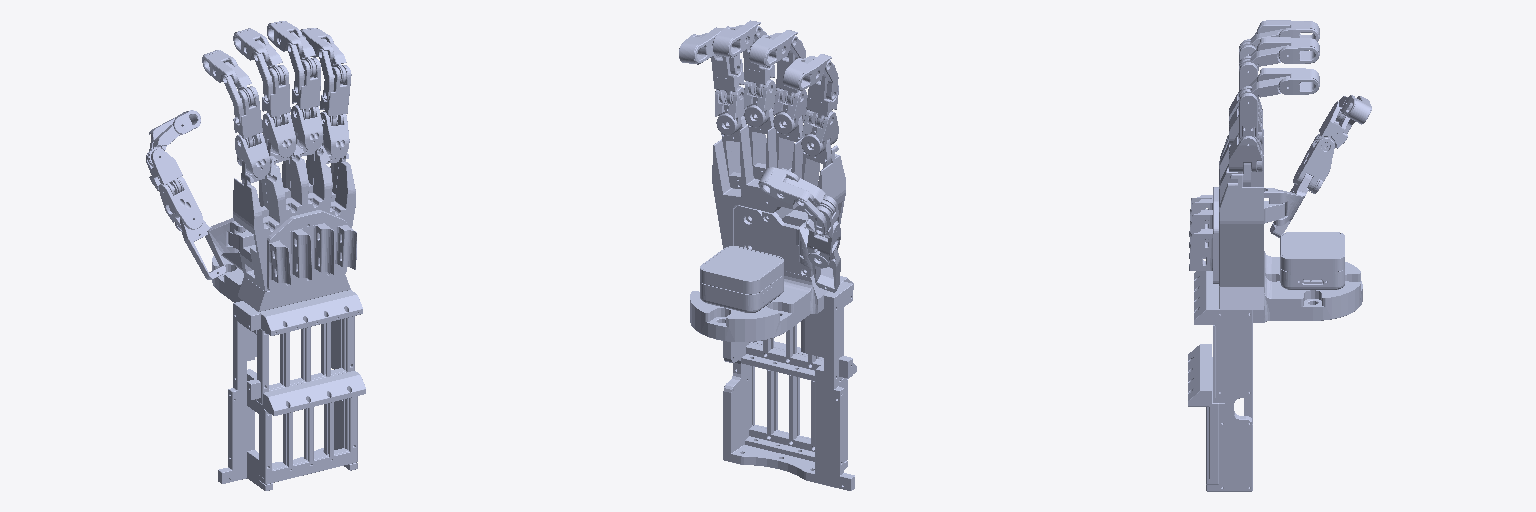
--- What the picture shows (computed from the rendered views, not written in the file) ---
The picture shows the robot from 3 angles, left to right: view 1: azimuth 30°, elevation 25°; view 2: azimuth 150°, elevation 25°; view 3: azimuth 270°, elevation 25°; orthographic projection.
Robot: bidexhand_right — 32 links, 31 joints (26 revolute, 5 fixed); root link hand_base_link; default pose: all joints at 0.
Visible links, largest first — view 1: hand_base_link, tcf_link, tca_link, tma_link, ima_link, mma_link, pmf_link, mmf_link, rmf_link, imf_link, rma_link, pma_link (+5 smaller); view 2: hand_base_link, ima_link, tdf_link, mma_link, rma_link, pmf_link, pma_link, tcf_link, imf_link, tca_link, rmf_link, mdf_link (+5 smaller); view 3: hand_base_link, tca_link, tcf_link, pdf_link, rdf_link, pma_link, pmf_link, mdf_link, tma_link, ppf_link.
Boxes of the visible links, <box> form: hand_base_link: <box>212,132,365,490</box>; tcf_link: <box>180,218,246,279</box>; tca_link: <box>159,176,202,231</box>; tma_link: <box>146,149,182,195</box>; ima_link: <box>235,133,270,177</box>; mma_link: <box>262,113,295,157</box>; pmf_link: <box>320,65,351,125</box>; mmf_link: <box>262,65,290,126</box>; rmf_link: <box>292,58,320,119</box>; imf_link: <box>233,86,262,147</box>; rma_link: <box>291,105,323,150</box>; pma_link: <box>320,112,349,158</box>; hand_base_link: <box>690,108,856,490</box>; ima_link: <box>801,110,838,155</box>; tdf_link: <box>759,167,813,204</box>; mma_link: <box>773,88,807,134</box>; rma_link: <box>744,80,776,127</box>; pmf_link: <box>711,55,744,104</box>; pma_link: <box>715,87,747,135</box>; tcf_link: <box>799,221,840,292</box>; imf_link: <box>806,64,838,127</box>; tca_link: <box>807,222,840,267</box>; rmf_link: <box>743,31,774,96</box>; mdf_link: <box>749,30,797,66</box>; hand_base_link: <box>1188,129,1362,491</box>; tca_link: <box>1293,134,1334,193</box>; tcf_link: <box>1264,173,1312,237</box>; pdf_link: <box>1257,68,1318,94</box>; rdf_link: <box>1257,37,1318,63</box>; pma_link: <box>1229,133,1262,171</box>; pmf_link: <box>1239,86,1258,142</box>; mdf_link: <box>1257,21,1318,41</box>; tma_link: <box>1315,101,1349,148</box>; ppf_link: <box>1239,76,1289,101</box>.
Bounding box of the posed robot: 0.1224 × 0.1192 × 0.3109 m (x, y, z).
32 mesh visuals loaded from 32 distinct referenced files (32 binary STL).

URDF robot description (bidexhand_right):
<?xml version="1.0" encoding="utf-8"?>
<!-- This URDF was automatically created by SolidWorks to URDF Exporter! Originally created by Stephen Brawner ([email redacted]) 
     Commit Version: 1.6.0-4-g7f85cfe  Build Version: 1.6.7995.38578
     For more information, please see http://wiki.ros.org/sw_urdf_exporter -->
<robot
  name="bidexhand_right">
  <link
    name="hand_base_link">
    <inertial>
      <origin
        xyz="-0.000725570415579053 -0.0104080064888702 0.0230876216279809"
        rpy="0 0 0" />
      <mass
        value="1.41105557691145" />
      <inertia
        ixx="0.000455162197300959"
        ixy="2.626489229978E-06"
        ixz="-3.6142366380137E-07"
        iyy="0.000539737696661667"
        iyz="1.05084366743528E-05"
        izz="0.000515614930153515" />
    </inertial>
    <visual>
      <origin
        xyz="0 0 0"
        rpy="0 0 0" />
      <geometry>
        <mesh
          filename="meshes/hand_base_link.STL" />
      </geometry>
      <material
        name="">
        <color
          rgba="0.792156862745098 0.819607843137255 0.933333333333333 1" />
      </material>
    </visual>
    <collision>
      <origin
        xyz="0 0 0"
        rpy="0 0 0" />
      <geometry>
        <mesh
          filename="meshes/hand_base_link.STL" />
      </geometry>
    </collision>
  </link>
  <link
    name="tcf_link">
    <inertial>
      <origin
        xyz="-0.0127681015251988 0.0064872186643618 0.000330864552872193"
        rpy="0 0 0" />
      <mass
        value="0.00505286263408417" />
      <inertia
        ixx="7.74949451966582E-07"
        ixy="2.33415056144498E-07"
        ixz="-1.43064393975911E-08"
        iyy="9.82823814891269E-07"
        iyz="-1.39546008320957E-07"
        izz="7.18911869528439E-07" />
    </inertial>
    <visual>
      <origin
        xyz="0 0 0"
        rpy="0 0 0" />
      <geometry>
        <mesh
          filename="meshes/tcf_link.STL" />
      </geometry>
      <material
        name="">
        <color
          rgba="0.792156862745098 0.819607843137255 0.933333333333333 1" />
      </material>
    </visual>
    <collision>
      <origin
        xyz="0 0 0"
        rpy="0 0 0" />
      <geometry>
        <mesh
          filename="meshes/tcf_link.STL" />
      </geometry>
    </collision>
  </link>
  <joint
    name="tcf_joint"
    type="revolute">
    <origin
      xyz="-0.03305 -0.02155 0.0495"
      rpy="0 0 0" />
    <parent
      link="hand_base_link" />
    <child
      link="tcf_link" />
    <axis
      xyz="0 0 1" />
    <limit
      lower="-1.57"
      upper="0.175"
      effort="0"
      velocity="0" />
  </joint>
  <link
    name="tca_link">
    <inertial>
      <origin
        xyz="0.0105237383263635 -0.000433201383295542 0.00254229836481148"
        rpy="0 0 0" />
      <mass
        value="0.00511850580963509" />
      <inertia
        ixx="2.23475059437511E-07"
        ixy="1.16596456374853E-08"
        ixz="3.30209390042801E-08"
        iyy="5.03548923540364E-07"
        iyz="-4.51746379791552E-10"
        izz="5.05523383307742E-07" />
    </inertial>
    <visual>
      <origin
        xyz="0 0 0"
        rpy="0 0 0" />
      <geometry>
        <mesh
          filename="meshes/tca_link.STL" />
      </geometry>
      <material
        name="">
        <color
          rgba="0.792156862745098 0.819607843137255 0.933333333333333 1" />
      </material>
    </visual>
    <collision>
      <origin
        xyz="0 0 0"
        rpy="0 0 0" />
      <geometry>
        <mesh
          filename="meshes/tca_link.STL" />
      </geometry>
    </collision>
  </link>
  <joint
    name="tca_joint"
    type="revolute">
    <origin
      xyz="-0.024 0.016626 0.011678"
      rpy="2.7701 -1.0044 2.0034" />
    <parent
      link="tcf_link" />
    <child
      link="tca_link" />
    <axis
      xyz="0 0 1" />
    <limit
      lower="-0.5"
      upper="1"
      effort="0"
      velocity="0" />
  </joint>
  <link
    name="tma_link">
    <inertial>
      <origin
        xyz="0.0115738759402629 -0.000303204414334148 -0.00174482181200082"
        rpy="0 0 0" />
      <mass
        value="0.00329743064165085" />
      <inertia
        ixx="1.10772393377562E-07"
        ixy="-1.35185673144797E-08"
        ixz="2.0558126913616E-08"
        iyy="2.26893925575228E-07"
        iyz="2.38451875838206E-09"
        izz="2.27931133532015E-07" />
    </inertial>
    <visual>
      <origin
        xyz="0 0 0"
        rpy="0 0 0" />
      <geometry>
        <mesh
          filename="meshes/tma_link.STL" />
      </geometry>
      <material
        name="">
        <color
          rgba="0.792156862745098 0.819607843137255 0.933333333333333 1" />
      </material>
    </visual>
    <collision>
      <origin
        xyz="0 0 0"
        rpy="0 0 0" />
      <geometry>
        <mesh
          filename="meshes/tma_link.STL" />
      </geometry>
    </collision>
  </link>
  <joint
    name="tma_joint"
    type="revolute">
    <origin
      xyz="0.025 0.000975 0.000475"
      rpy="-1.5708 0 0" />
    <parent
      link="tca_link" />
    <child
      link="tma_link" />
    <axis
      xyz="0 0 1" />
    <limit
      lower="-1.2"
      upper="0.7"
      effort="0"
      velocity="0" />
  </joint>
  <link
    name="tmf_link">
    <inertial>
      <origin
        xyz="0.0119380012691961 -0.00180717018424088 -0.00119615806984238"
        rpy="0 0 0" />
      <mass
        value="0.00178293997137009" />
      <inertia
        ixx="2.51966326250509E-08"
        ixy="5.48915339331319E-09"
        ixz="3.99987210474622E-09"
        iyy="1.66014989692965E-07"
        iyz="-2.31073084727786E-09"
        izz="1.74641415165244E-07" />
    </inertial>
    <visual>
      <origin
        xyz="0 0 0"
        rpy="0 0 0" />
      <geometry>
        <mesh
          filename="meshes/tmf_link.STL" />
      </geometry>
      <material
        name="">
        <color
          rgba="0.792156862745098 0.819607843137255 0.933333333333333 1" />
      </material>
    </visual>
    <collision>
      <origin
        xyz="0 0 0"
        rpy="0 0 0" />
      <geometry>
        <mesh
          filename="meshes/tmf_link.STL" />
      </geometry>
    </collision>
  </link>
  <joint
    name="tmf_joint"
    type="revolute">
    <origin
      xyz="0.023 -0.000125 -0.003475"
      rpy="1.5708 -1.1468 0" />
    <parent
      link="tma_link" />
    <child
      link="tmf_link" />
    <axis
      xyz="0 0 1" />
    <limit
      lower="-0.650"
      upper="1.57"
      effort="0"
      velocity="0" />
  </joint>
  <link
    name="tdf_link">
    <inertial>
      <origin
        xyz="0.000802743353210698 -0.000155618657950204 0.00275199039461954"
        rpy="0 0 0" />
      <mass
        value="0.00311228154218926" />
      <inertia
        ixx="9.5031931097537E-08"
        ixy="-4.88641379551435E-09"
        ixz="3.0819878933757E-08"
        iyy="2.81266474393367E-07"
        iyz="1.40942172702238E-09"
        izz="2.65916647798908E-07" />
    </inertial>
    <visual>
      <origin
        xyz="0 0 0"
        rpy="0 0 0" />
      <geometry>
        <mesh
          filename="meshes/tdf_link.STL" />
      </geometry>
      <material
        name="">
        <color
          rgba="0.792156862745098 0.819607843137255 0.933333333333333 1" />
      </material>
    </visual>
    <collision>
      <origin
        xyz="0 0 0"
        rpy="0 0 0" />
      <geometry>
        <mesh
          filename="meshes/tdf_link.STL" />
      </geometry>
    </collision>
  </link>
  <joint
    name="tdf_joint"
    type="revolute">
    <origin
      xyz="0.028 0 0"
      rpy="0 0 0.42403" />
    <parent
      link="tmf_link" />
    <child
      link="tdf_link" />
    <axis
      xyz="0 0 1" />
    <limit
      lower="-0.175"
      upper="1.25"
      effort="0"
      velocity="0" />
  </joint>
  <link
    name="t_tip_link">
    <inertial>
      <origin
        xyz="0.00180286824371704 3.90345999690123E-08 -6.31439345255558E-16"
        rpy="0 0 0" />
      <mass
        value="0.000106342041717247" />
      <inertia
        ixx="3.12011621092777E-09"
        ixy="-4.10100638067306E-23"
        ixz="2.83309359799412E-23"
        iyy="1.43949745118296E-09"
        iyz="8.78879400837592E-25"
        izz="2.45648006728725E-09" />
    </inertial>
    <visual>
      <origin
        xyz="0 0 0"
        rpy="0 0 0" />
      <geometry>
        <mesh
          filename="meshes/t_tip_link.STL" />
      </geometry>
      <material
        name="">
        <color
          rgba="0.792156862745098 0.819607843137255 0.933333333333333 1" />
      </material>
    </visual>
    <collision>
      <origin
        xyz="0 0 0"
        rpy="0 0 0" />
      <geometry>
        <mesh
          filename="meshes/t_tip_link.STL" />
      </geometry>
    </collision>
  </link>
  <joint
    name="t_tip_joint"
    type="fixed">
    <origin
      xyz="0.0122 0 0.001625"
      rpy="0 0 0" />
    <parent
      link="tdf_link" />
    <child
      link="t_tip_link" />
    <axis
      xyz="0 0 0" />
  </joint>
  <link
    name="tds_link">
    <inertial>
      <origin
        xyz="0.0135308220531408 0.00375751103141848 0.000893631122538648"
        rpy="0 0 0" />
      <mass
        value="0.000835750928421176" />
      <inertia
        ixx="1.95505872026181E-08"
        ixy="-2.59298002504612E-08"
        ixz="-4.35960139045451E-11"
        iyy="5.99911849192119E-08"
        iyz="2.33598761013498E-11"
        izz="7.75399409092295E-08" />
    </inertial>
    <visual>
      <origin
        xyz="0 0 0"
        rpy="0 0 0" />
      <geometry>
        <mesh
          filename="meshes/tds_link.STL" />
      </geometry>
      <material
        name="">
        <color
          rgba="0.792156862745098 0.819607843137255 0.933333333333333 1" />
      </material>
    </visual>
    <collision>
      <origin
        xyz="0 0 0"
        rpy="0 0 0" />
      <geometry>
        <mesh
          filename="meshes/tds_link.STL" />
      </geometry>
    </collision>
  </link>
  <joint
    name="tds_joint"
    type="revolute">
    <origin
      xyz="0.009 -0.006425 -0.003475"
      rpy="1.5708 0.0019569 0" />
    <parent
      link="tma_link" />
    <child
      link="tds_link" />
    <axis
      xyz="0 0 1" />
    <limit
      lower="-0.175"
      upper="1.25"
      effort="0"
      velocity="0" />
    <mimic
      joint="tdf_joint"
      multiplier="1"
      offset="0" />
  </joint>
  <link
    name="ima_link">
    <inertial>
      <origin
        xyz="0.00503464484796538 5.98272297764428E-05 -0.00177249288426803"
        rpy="0 0 0" />
      <mass
        value="0.00449002294753804" />
      <inertia
        ixx="2.70035083771622E-07"
        ixy="-3.22514169590942E-09"
        ixz="-1.86751143035278E-08"
        iyy="3.74895329911385E-07"
        iyz="-5.83790329510472E-10"
        izz="2.94770545418815E-07" />
    </inertial>
    <visual>
      <origin
        xyz="0 0 0"
        rpy="0 0 0" />
      <geometry>
        <mesh
          filename="meshes/ima_link.STL" />
      </geometry>
      <material
        name="">
        <color
          rgba="0.792156862745098 0.819607843137255 0.933333333333333 1" />
      </material>
    </visual>
    <collision>
      <origin
        xyz="0 0 0"
        rpy="0 0 0" />
      <geometry>
        <mesh
          filename="meshes/ima_link.STL" />
      </geometry>
    </collision>
  </link>
  <joint
    name="ima_joint"
    type="revolute">
    <origin
      xyz="-0.030453 -0.042025 0.11347"
      rpy="1.5708 -1.4573 3.1416" />
    <parent
      link="hand_base_link" />
    <child
      link="ima_link" />
    <axis
      xyz="0 0 1" />
    <limit
      lower="-0.436"
      upper="0.436"
      effort="0"
      velocity="0" />
  </joint>
  <link
    name="imf_link">
    <inertial>
      <origin
        xyz="0.0157681146549905 -8.39248010623119E-05 -0.000586678883075314"
        rpy="0 0 0" />
      <mass
        value="0.00428037699515229" />
      <inertia
        ixx="1.21366651676568E-07"
        ixy="1.0308664365756E-09"
        ixz="6.7183202137617E-08"
        iyy="4.86740574958393E-07"
        iyz="8.12445969572476E-10"
        izz="4.74517493222643E-07" />
    </inertial>
    <visual>
      <origin
        xyz="0 0 0"
        rpy="0 0 0" />
      <geometry>
        <mesh
          filename="meshes/imf_link.STL" />
      </geometry>
      <material
        name="">
        <color
          rgba="0.792156862745098 0.819607843137255 0.933333333333333 1" />
      </material>
    </visual>
    <collision>
      <origin
        xyz="0 0 0"
        rpy="0 0 0" />
      <geometry>
        <mesh
          filename="meshes/imf_link.STL" />
      </geometry>
    </collision>
  </link>
  <joint
    name="imf_joint"
    type="revolute">
    <origin
      xyz="0.017 0 0.0004"
      rpy="1.5708 0 0" />
    <parent
      link="ima_link" />
    <child
      link="imf_link" />
    <axis
      xyz="0 0 1" />
    <limit
      lower="-1.57"
      upper="1.57"
      effort="0"
      velocity="0" />
  </joint>
  <link
    name="ipf_link">
    <inertial>
      <origin
        xyz="0.0119380016101945 -0.00180717011704587 -0.0028211578621919"
        rpy="0 0 0" />
      <mass
        value="0.0017829399503603" />
      <inertia
        ixx="2.51966332601502E-08"
        ixy="5.4891548621447E-09"
        ixz="3.99987505141804E-09"
        iyy="1.66014992506729E-07"
        iyz="-2.31073166529935E-09"
        izz="1.74641417094822E-07" />
    </inertial>
    <visual>
      <origin
        xyz="0 0 0"
        rpy="0 0 0" />
      <geometry>
        <mesh
          filename="meshes/ipf_link.STL" />
      </geometry>
      <material
        name="">
        <color
          rgba="0.792156862745098 0.819607843137255 0.933333333333333 1" />
      </material>
    </visual>
    <collision>
      <origin
        xyz="0 0 0"
        rpy="0 0 0" />
      <geometry>
        <mesh
          filename="meshes/ipf_link.STL" />
      </geometry>
    </collision>
  </link>
  <joint
    name="ipf_joint"
    type="revolute">
    <origin
      xyz="0.032 0 0"
      rpy="0 0 1.1468" />
    <parent
      link="imf_link" />
    <child
      link="ipf_link" />
    <axis
      xyz="0 0 1" />
    <limit
      lower="-0.650"
      upper="1.57"
      effort="0"
      velocity="0" />
  </joint>
  <link
    name="idf_link">
    <inertial>
      <origin
        xyz="0.002387742591975 -0.000189373670521353 0.000969315817086848"
        rpy="0 0 0" />
      <mass
        value="0.00334446738731233" />
      <inertia
        ixx="1.04470305363248E-07"
        ixy="-7.09404190551584E-09"
        ixz="3.35383399715759E-08"
        iyy="3.59205966468766E-07"
        iyz="2.19369341433661E-09"
        izz="3.45591860900624E-07" />
    </inertial>
    <visual>
      <origin
        xyz="0 0 0"
        rpy="0 0 0" />
      <geometry>
        <mesh
          filename="meshes/idf_link.STL" />
      </geometry>
      <material
        name="">
        <color
          rgba="0.792156862745098 0.819607843137255 0.933333333333333 1" />
      </material>
    </visual>
    <collision>
      <origin
        xyz="0 0 0"
        rpy="0 0 0" />
      <geometry>
        <mesh
          filename="meshes/idf_link.STL" />
      </geometry>
    </collision>
  </link>
  <joint
    name="idf_joint"
    type="revolute">
    <origin
      xyz="0.028 0 0"
      rpy="0 0 0.42403" />
    <parent
      link="ipf_link" />
    <child
      link="idf_link" />
    <axis
      xyz="0 0 1" />
    <limit
      lower="-0.175"
      upper="1.25"
      effort="0"
      velocity="0" />
  </joint>
  <link
    name="i_tip_link">
    <inertial>
      <origin
        xyz="0.0017968 -1.9457E-08 -1.8041E-16"
        rpy="0 0 0" />
      <mass
        value="0.00010634" />
      <inertia
        ixx="3.1201E-09"
        ixy="-2.4231E-25"
        ixz="1.9164E-25"
        iyy="1.4395E-09"
        iyz="6.4623E-25"
        izz="2.4565E-09" />
    </inertial>
    <visual>
      <origin
        xyz="0 0 0"
        rpy="0 0 0" />
      <geometry>
        <mesh
          filename="meshes/i_tip_link.STL" />
      </geometry>
      <material
        name="">
        <color
          rgba="0.79216 0.81961 0.93333 1" />
      </material>
    </visual>
    <collision>
      <origin
        xyz="0 0 0"
        rpy="0 0 0" />
      <geometry>
        <mesh
          filename="meshes/i_tip_link.STL" />
      </geometry>
    </collision>
  </link>
  <joint
    name="i_tip_joint"
    type="fixed">
    <origin
      xyz="0.016206 0 0"
      rpy="0 0 0" />
    <parent
      link="idf_link" />
    <child
      link="i_tip_link" />
    <axis
      xyz="0 0 0" />
  </joint>
  <link
    name="ids_link">
    <inertial>
      <origin
        xyz="0.013532 0.0036871 0.0010097"
        rpy="0 0 0" />
      <mass
        value="0.00089722" />
      <inertia
        ixx="2.0441E-08"
        ixy="-2.6845E-08"
        ixz="-4.589E-11"
        iyy="6.1828E-08"
        iyz="1.2288E-10"
        izz="7.9928E-08" />
    </inertial>
    <visual>
      <origin
        xyz="0 0 0"
        rpy="0 0 0" />
      <geometry>
        <mesh
          filename="meshes/ids_link.STL" />
      </geometry>
      <material
        name="">
        <color
          rgba="0.79216 0.81961 0.93333 1" />
      </material>
    </visual>
    <collision>
      <origin
        xyz="0 0 0"
        rpy="0 0 0" />
      <geometry>
        <mesh
          filename="meshes/ids_link.STL" />
      </geometry>
    </collision>
  </link>
  <joint
    name="ids_joint"
    type="revolute">
    <origin
      xyz="0.018 0 0.004675"
      rpy="0 0 -0.0019569" />
    <parent
      link="imf_link" />
    <child
      link="ids_link" />
    <axis
      xyz="0 0 1" />
    <limit
      lower="-0.175"
      upper="1.25"
      effort="0"
      velocity="0" />
    <mimic
      joint="idf_joint"
      multiplier="1"
      offset="0" />
  </joint>
  <link
    name="mma_link">
    <inertial>
      <origin
        xyz="0.00503463550199068 5.98300126588075E-05 -0.00177249465586118"
        rpy="0 0 0" />
      <mass
        value="0.00449001647184619" />
      <inertia
        ixx="2.70035009497661E-07"
        ixy="-3.22529318822978E-09"
        ixz="-1.86751011926075E-08"
        iyy="3.74895085261769E-07"
        iyz="-5.83816161969542E-10"
        izz="2.94770129553718E-07" />
    </inertial>
    <visual>
      <origin
        xyz="0 0 0"
        rpy="0 0 0" />
      <geometry>
        <mesh
          filename="meshes/mma_link.STL" />
      </geometry>
      <material
        name="">
        <color
          rgba="0.792156862745098 0.819607843137255 0.933333333333333 1" />
      </material>
    </visual>
    <collision>
      <origin
        xyz="0 0 0"
        rpy="0 0 0" />
      <geometry>
        <mesh
          filename="meshes/mma_link.STL" />
      </geometry>
    </collision>
  </link>
  <joint
    name="mma_joint"
    type="revolute">
    <origin
      xyz="-0.010408 -0.042025 0.12371"
      rpy="1.5708 -1.5272 -3.1416" />
    <parent
      link="hand_base_link" />
    <child
      link="mma_link" />
    <axis
      xyz="0 0 1" />
    <limit
      lower="-0.436"
      upper="0.436"
      effort="0"
      velocity="0" />
  </joint>
  <link
    name="mmf_link">
    <inertial>
      <origin
        xyz="0.0157681146598199 -8.39247976679369E-05 -0.000586678874241761"
        rpy="0 0 0" />
      <mass
        value="0.00428037699020959" />
      <inertia
        ixx="1.21366651787299E-07"
        ixy="1.03086680169974E-09"
        ixz="6.7183202286979E-08"
        iyy="4.86740574996791E-07"
        iyz="8.12445875109257E-10"
        izz="4.74517493130867E-07" />
    </inertial>
    <visual>
      <origin
        xyz="0 0 0"
        rpy="0 0 0" />
      <geometry>
        <mesh
          filename="meshes/mmf_link.STL" />
      </geometry>
      <material
        name="">
        <color
          rgba="0.792156862745098 0.819607843137255 0.933333333333333 1" />
      </material>
    </visual>
    <collision>
      <origin
        xyz="0 0 0"
        rpy="0 0 0" />
      <geometry>
        <mesh
          filename="meshes/mmf_link.STL" />
      </geometry>
    </collision>
  </link>
  <joint
    name="mmf_joint"
    type="revolute">
    <origin
      xyz="0.017 0 0.0004"
      rpy="1.5708 0 0" />
    <parent
      link="mma_link" />
    <child
      link="mmf_link" />
    <axis
      xyz="0 0 1" />
    <limit
      lower="-1.57"
      upper="1.57"
      effort="0"
      velocity="0" />
  </joint>
  <link
    name="mpf_link">
    <inertial>
      <origin
        xyz="0.0119380016426112 -0.00180717004813466 -0.00282115778359655"
        rpy="0 0 0" />
      <mass
        value="0.00178293992081719" />
      <inertia
        ixx="2.51966332474012E-08"
        ixy="5.48915521081741E-09"
        ixz="3.99987569936663E-09"
        iyy="1.66014991637592E-07"
        iyz="-2.31073185096221E-09"
        izz="1.74641416093391E-07" />
    </inertial>
    <visual>
      <origin
        xyz="0 0 0"
        rpy="0 0 0" />
      <geometry>
        <mesh
          filename="meshes/mpf_link.STL" />
      </geometry>
      <material
        name="">
        <color
          rgba="0.792156862745098 0.819607843137255 0.933333333333333 1" />
      </material>
    </visual>
    <collision>
      <origin
        xyz="0 0 0"
        rpy="0 0 0" />
      <geometry>
        <mesh
          filename="meshes/mpf_link.STL" />
      </geometry>
    </collision>
  </link>
  <joint
    name="mpf_joint"
    type="revolute">
    <origin
      xyz="0.032 0 0"
      rpy="0 0 1.1468" />
    <parent
      link="mmf_link" />
    <child
      link="mpf_link" />
    <axis
      xyz="0 0 1" />
    <limit
      lower="-0.650"
      upper="1.57"
      effort="0"
      velocity="0" />
  </joint>
  <link
    name="mdf_link">
    <inertial>
      <origin
        xyz="0.00238774288096186 -0.000189373618760341 0.000969315755758812"
        rpy="0 0 0" />
      <mass
        value="0.00334446743318713" />
      <inertia
        ixx="1.04470296553911E-07"
        ixy="-7.09404334577965E-09"
        ixz="3.3538342054856E-08"
        iyy="3.59205982045654E-07"
        iyz="2.19369312889999E-09"
        izz="3.4559186676261E-07" />
    </inertial>
    <visual>
      <origin
        xyz="0 0 0"
        rpy="0 0 0" />
      <geometry>
        <mesh
          filename="meshes/mdf_link.STL" />
      </geometry>
      <material
        name="">
        <color
          rgba="0.792156862745098 0.819607843137255 0.933333333333333 1" />
      </material>
    </visual>
    <collision>
      <origin
        xyz="0 0 0"
        rpy="0 0 0" />
      <geometry>
        <mesh
          filename="meshes/mdf_link.STL" />
      </geometry>
    </collision>
  </link>
  <joint
    name="mdf_joint"
    type="revolute">
    <origin
      xyz="0.028 0 0"
      rpy="0 0 0.42403" />
    <parent
      link="mpf_link" />
    <child
      link="mdf_link" />
    <axis
      xyz="0 0 1" />
    <limit
      lower="-0.175"
      upper="1.25"
      effort="0"
      velocity="0" />
  </joint>
  <link
    name="m_tip_link">
    <inertial>
      <origin
        xyz="0.0017968 -1.9457E-08 -1.4311E-16"
        rpy="0 0 0" />
      <mass
        value="0.00010634" />
      <inertia
        ixx="3.1201E-09"
        ixy="2.498E-24"
        ixz="1.0893E-24"
        iyy="1.4395E-09"
        iyz="-9.8874E-25"
        izz="2.4565E-09" />
    </inertial>
    <visual>
      <origin
        xyz="0 0 0"
        rpy="0 0 0" />
      <geometry>
        <mesh
          filename="meshes/m_tip_link.STL" />
      </geometry>
      <material
        name="">
        <color
          rgba="0.79216 0.81961 0.93333 1" />
      </material>
    </visual>
    <collision>
      <origin
        xyz="0 0 0"
        rpy="0 0 0" />
      <geometry>
        <mesh
          filename="meshes/m_tip_link.STL" />
      </geometry>
    </collision>
  </link>
  <joint
    name="m_tip_joint"
    type="fixed">
    <origin
      xyz="0.016206 0 0"
      rpy="0 0 0" />
    <parent
      link="mdf_link" />
    <child
      link="m_tip_link" />
    <axis
      xyz="0 0 0" />
  </joint>
  <link
    name="mds_link">
    <inertial>
      <origin
        xyz="0.013532 0.0036871 0.0010097"
        rpy="0 0 0" />
      <mass
        value="0.00089722" />
      <inertia
        ixx="2.0441E-08"
        ixy="-2.6845E-08"
        ixz="-4.589E-11"
        iyy="6.1828E-08"
        iyz="1.2288E-10"
        izz="7.9928E-08" />
    </inertial>
    <visual>
      <origin
        xyz="0 0 0"
        rpy="0 0 0" />
      <geometry>
        <mesh
          filename="meshes/mds_link.STL" />
      </geometry>
      <material
        name="">
        <color
          rgba="0.79216 0.81961 0.93333 1" />
      </material>
    </visual>
    <collision>
      <origin
        xyz="0 0 0"
        rpy="0 0 0" />
      <geometry>
        <mesh
          filename="meshes/mds_link.STL" />
      </geometry>
    </collision>
  </link>
  <joint
    name="mds_joint"
    type="revolute">
    <origin
      xyz="0.018 0 0.004675"
      rpy="0 0 -0.0019569" />
    <parent
      link="mmf_link" />
    <child
      link="mds_link" />
    <axis
      xyz="0 0 1" />
    <limit
      lower="-0.175"
      upper="1.25"
      effort="0"
      velocity="0" />
    <mimic
      joint="mdf_joint"
      multiplier="1"
      offset="0" />
  </joint>
  <link
    name="rma_link">
    <inertial>
      <origin
        xyz="0.00503463723004684 5.98324548934399E-05 -0.00177249119228274"
        rpy="0 0 0" />
      <mass
        value="0.00449002148418832" />
      <inertia
        ixx="2.70035508280761E-07"
        ixy="-3.22527377811435E-09"
        ixz="-1.8675193642765E-08"
        iyy="3.74895474309084E-07"
        iyz="-5.83797528399546E-10"
        izz="2.94770247190702E-07" />
    </inertial>
    <visual>
      <origin
        xyz="0 0 0"
        rpy="0 0 0" />
      <geometry>
        <mesh
          filename="meshes/rma_link.STL" />
      </geometry>
      <material
        name="">
        <color
          rgba="0.792156862745098 0.819607843137255 0.933333333333333 1" />
      </material>
    </visual>
    <collision>
      <origin
        xyz="0 0 0"
        rpy="0 0 0" />
      <geometry>
        <mesh
          filename="meshes/rma_link.STL" />
      </geometry>
    </collision>
  </link>
  <joint
    name="rma_joint"
    type="revolute">
    <origin
      xyz="0.010408 -0.042025 0.12371"
      rpy="-1.5708 -1.5272 0" />
    <parent
      link="hand_base_link" />
    <child
      link="rma_link" />
    <axis
      xyz="0 0 1" />
    <limit
      lower="-0.436"
      upper="0.436"
      effort="0"
      velocity="0" />
  </joint>
  <link
    name="rmf_link">
    <inertial>
      <origin
        xyz="0.0157681146584297 -8.39248019694388E-05 -0.000586678884884897"
        rpy="0 0 0" />
      <mass
        value="0.00428037699145368" />
      <inertia
        ixx="1.21366651625815E-07"
        ixy="1.03086646177773E-09"
        ixz="6.71832020834986E-08"
        iyy="4.86740574840899E-07"
        iyz="8.12445935588288E-10"
        izz="4.74517493117422E-07" />
    </inertial>
    <visual>
      <origin
        xyz="0 0 0"
        rpy="0 0 0" />
      <geometry>
        <mesh
          filename="meshes/rmf_link.STL" />
      </geometry>
      <material
        name="">
        <color
          rgba="0.792156862745098 0.819607843137255 0.933333333333333 1" />
      </material>
    </visual>
    <collision>
      <origin
        xyz="0 0 0"
        rpy="0 0 0" />
      <geometry>
        <mesh
          filename="meshes/rmf_link.STL" />
      </geometry>
    </collision>
  </link>
  <joint
    name="rmf_joint"
    type="revolute">
    <origin
      xyz="0.017 0 0.0004"
      rpy="1.5708 0 0" />
    <parent
      link="rma_link" />
    <child
      link="rmf_link" />
    <axis
      xyz="0 0 1" />
    <limit
      lower="-1.57"
      upper="1.57"
      effort="0"
      velocity="0" />
  </joint>
  <link
    name="rpf_link">
    <inertial>
      <origin
        xyz="0.0119380016710509 -0.00180716998383848 -0.00282115774729011"
        rpy="0 0 0" />
      <mass
        value="0.00178293986878615" />
      <inertia
        ixx="2.51966329639877E-08"
        ixy="5.48915536526696E-09"
        ixz="3.99987582717931E-09"
        iyy="1.66014990262722E-07"
        iyz="-2.31073182633143E-09"
        izz="1.74641414570864E-07" />
    </inertial>
    <visual>
      <origin
        xyz="0 0 0"
        rpy="0 0 0" />
      <geometry>
        <mesh
          filename="meshes/rpf_link.STL" />
      </geometry>
      <material
        name="">
        <color
          rgba="0.792156862745098 0.819607843137255 0.933333333333333 1" />
      </material>
    </visual>
    <collision>
      <origin
        xyz="0 0 0"
        rpy="0 0 0" />
      <geometry>
        <mesh
          filename="meshes/rpf_link.STL" />
      </geometry>
    </collision>
  </link>
  <joint
    name="rpf_joint"
    type="revolute">
    <origin
      xyz="0.032 0 0"
      rpy="0 0 1.1468" />
    <parent
      link="rmf_link" />
    <child
      link="rpf_link" />
    <axis
      xyz="0 0 1" />
    <limit
      lower="-0.650"
      upper="1.57"
      effort="0"
      velocity="0" />
  </joint>
  <link
    name="rdf_link">
    <inertial>
      <origin
        xyz="0.002387742877819 -0.000189373628881107 0.000969315754923459"
        rpy="0 0 0" />
      <mass
        value="0.0033444674327742" />
      <inertia
        ixx="1.04470296607067E-07"
        ixy="-7.09404294848806E-09"
        ixz="3.35383420917998E-08"
        iyy="3.59205981920664E-07"
        iyz="2.19369309392024E-09"
        izz="3.45591866700717E-07" />
    </inertial>
    <visual>
      <origin
        xyz="0 0 0"
        rpy="0 0 0" />
      <geometry>
        <mesh
          filename="meshes/rdf_link.STL" />
      </geometry>
      <material
        name="">
        <color
          rgba="0.792156862745098 0.819607843137255 0.933333333333333 1" />
      </material>
    </visual>
    <collision>
      <origin
        xyz="0 0 0"
        rpy="0 0 0" />
      <geometry>
        <mesh
          filename="meshes/rdf_link.STL" />
      </geometry>
    </collision>
  </link>
  <joint
    name="rdf_joint"
    type="revolute">
    <origin
      xyz="0.028 0 0"
      rpy="0 0 0.42403" />
    <parent
      link="rpf_link" />
    <child
      link="rdf_link" />
    <axis
      xyz="0 0 1" />
    <limit
      lower="-0.175"
      upper="1.25"
      effort="0"
      velocity="0" />
  </joint>
  <link
    name="r_tip_link">
    <inertial>
      <origin
        xyz="0.0017968 -1.9457E-08 -1.3878E-16"
        rpy="0 0 0" />
      <mass
        value="0.00010634" />
      <inertia
        ixx="3.1201E-09"
        ixy="-2.0444E-24"
        ixz="8.3247E-26"
        iyy="1.4395E-09"
        iyz="-3.2312E-25"
        izz="2.4565E-09" />
    </inertial>
    <visual>
      <origin
        xyz="0 0 0"
        rpy="0 0 0" />
      <geometry>
        <mesh
          filename="meshes/r_tip_link.STL" />
      </geometry>
      <material
        name="">
        <color
          rgba="0.79216 0.81961 0.93333 1" />
      </material>
    </visual>
    <collision>
      <origin
        xyz="0 0 0"
        rpy="0 0 0" />
      <geometry>
        <mesh
          filename="meshes/r_tip_link.STL" />
      </geometry>
    </collision>
  </link>
  <joint
    name="r_tip_joint"
    type="fixed">
    <origin
      xyz="0.016206 0 0"
      rpy="0 0 0" />
    <parent
      link="rdf_link" />
    <child
      link="r_tip_link" />
    <axis
      xyz="0 0 0" />
  </joint>
  <link
    name="rds_link">
    <inertial>
      <origin
        xyz="0.013539 0.0036606 0.0010097"
        rpy="0 0 0" />
      <mass
        value="0.00089722" />
      <inertia
        ixx="2.0336E-08"
        ixy="-2.6764E-08"
        ixz="-4.5649E-11"
        iyy="6.1933E-08"
        iyz="1.2297E-10"
        izz="7.9928E-08" />
    </inertial>
    <visual>
      <origin
        xyz="0 0 0"
        rpy="0 0 0" />
      <geometry>
        <mesh
          filename="meshes/rds_link.STL" />
      </geometry>
      <material
        name="">
        <color
          rgba="0.79216 0.81961 0.93333 1" />
      </material>
    </visual>
    <collision>
      <origin
        xyz="0 0 0"
        rpy="0 0 0" />
      <geometry>
        <mesh
          filename="meshes/rds_link.STL" />
      </geometry>
    </collision>
  </link>
  <joint
    name="rds_joint"
    type="revolute">
    <origin
      xyz="0.018 0 0.004675"
      rpy="0 0 0" />
    <parent
      link="rmf_link" />
    <child
      link="rds_link" />
    <axis
      xyz="0 0 1" />
    <limit
      lower="-0.175"
      upper="1.25"
      effort="0"
      velocity="0" />
    <mimic
      joint="rdf_joint"
      multiplier="1"
      offset="0" />
  </joint>
  <link
    name="pma_link">
    <inertial>
      <origin
        xyz="0.00503464691008852 5.9824568991361E-05 -0.00177249124377273"
        rpy="0 0 0" />
      <mass
        value="0.0044900248403291" />
      <inertia
        ixx="2.70035423298214E-07"
        ixy="-3.22513141444438E-09"
        ixz="-1.86752138806951E-08"
        iyy="3.7489566186272E-07"
        iyz="-5.83681858877019E-10"
        izz="2.9477058028695E-07" />
    </inertial>
    <visual>
      <origin
        xyz="0 0 0"
        rpy="0 0 0" />
      <geometry>
        <mesh
          filename="meshes/pma_link.STL" />
      </geometry>
      <material
        name="">
        <color
          rgba="0.792156862745098 0.819607843137255 0.933333333333333 1" />
      </material>
    </visual>
    <collision>
      <origin
        xyz="0 0 0"
        rpy="0 0 0" />
      <geometry>
        <mesh
          filename="meshes/pma_link.STL" />
      </geometry>
    </collision>
  </link>
  <joint
    name="pma_joint"
    type="revolute">
    <origin
      xyz="0.030453 -0.042025 0.11347"
      rpy="-1.5708 -1.4573 0" />
    <parent
      link="hand_base_link" />
    <child
      link="pma_link" />
    <axis
      xyz="0 0 1" />
    <limit
      lower="-0.436"
      upper="0.436"
      effort="0"
      velocity="0" />
  </joint>
  <link
    name="pmf_link">
    <inertial>
      <origin
        xyz="0.0157681146501394 -8.39248096067466E-05 -0.000586678908004144"
        rpy="0 0 0" />
      <mass
        value="0.00428037700888134" />
      <inertia
        ixx="1.21366651412594E-07"
        ixy="1.03086553086179E-09"
        ixz="6.71832017784059E-08"
        iyy="4.86740574950664E-07"
        iyz="8.12446186572344E-10"
        izz="4.74517493507909E-07" />
    </inertial>
    <visual>
      <origin
        xyz="0 0 0"
        rpy="0 0 0" />
      <geometry>
        <mesh
          filename="meshes/pmf_link.STL" />
      </geometry>
      <material
        name="">
        <color
          rgba="0.792156862745098 0.819607843137255 0.933333333333333 1" />
      </material>
    </visual>
    <collision>
      <origin
        xyz="0 0 0"
        rpy="0 0 0" />
      <geometry>
        <mesh
          filename="meshes/pmf_link.STL" />
      </geometry>
    </collision>
  </link>
  <joint
    name="pmf_joint"
    type="revolute">
    <origin
      xyz="0.017 0 0.0004"
      rpy="1.5708 0 0" />
    <parent
      link="pma_link" />
    <child
      link="pmf_link" />
    <axis
      xyz="0 0 1" />
    <limit
      lower="-1.57"
      upper="1.57"
      effort="0"
      velocity="0" />
  </joint>
  <link
    name="ppf_link">
    <inertial>
      <origin
        xyz="0.011938001677644 -0.00180716996496935 -0.00282115776845518"
        rpy="0 0 0" />
      <mass
        value="0.00178293983469879" />
      <inertia
        ixx="2.51966326994008E-08"
        ixy="5.48915527604355E-09"
        ixz="3.99987548736047E-09"
        iyy="1.66014989452134E-07"
        iyz="-2.3107316785149E-09"
        izz="1.74641413675572E-07" />
    </inertial>
    <visual>
      <origin
        xyz="0 0 0"
        rpy="0 0 0" />
      <geometry>
        <mesh
          filename="meshes/ppf_link.STL" />
      </geometry>
      <material
        name="">
        <color
          rgba="0.792156862745098 0.819607843137255 0.933333333333333 1" />
      </material>
    </visual>
    <collision>
      <origin
        xyz="0 0 0"
        rpy="0 0 0" />
      <geometry>
        <mesh
          filename="meshes/ppf_link.STL" />
      </geometry>
    </collision>
  </link>
  <joint
    name="ppf_joint"
    type="revolute">
    <origin
      xyz="0.032 0 0"
      rpy="0 0 1.1468" />
    <parent
      link="pmf_link" />
    <child
      link="ppf_link" />
    <axis
      xyz="0 0 1" />
    <limit
      lower="-0.650"
      upper="1.57"
      effort="0"
      velocity="0" />
  </joint>
  <link
    name="pdf_link">
    <inertial>
      <origin
        xyz="0.0023877425919751 -0.000189373670521298 0.000969315817086831"
        rpy="0 0 0" />
      <mass
        value="0.00334446738731236" />
      <inertia
        ixx="1.04470305363249E-07"
        ixy="-7.09404190551588E-09"
        ixz="3.3538339971576E-08"
        iyy="3.5920596646877E-07"
        iyz="2.19369341433681E-09"
        izz="3.45591860900627E-07" />
    </inertial>
    <visual>
      <origin
        xyz="0 0 0"
        rpy="0 0 0" />
      <geometry>
        <mesh
          filename="meshes/pdf_link.STL" />
      </geometry>
      <material
        name="">
        <color
          rgba="0.792156862745098 0.819607843137255 0.933333333333333 1" />
      </material>
    </visual>
    <collision>
      <origin
        xyz="0 0 0"
        rpy="0 0 0" />
      <geometry>
        <mesh
          filename="meshes/pdf_link.STL" />
      </geometry>
    </collision>
  </link>
  <joint
    name="pdf_joint"
    type="revolute">
    <origin
      xyz="0.028 0 0"
      rpy="0 0 0.42403" />
    <parent
      link="ppf_link" />
    <child
      link="pdf_link" />
    <axis
      xyz="0 0 1" />
    <limit
      lower="-0.175"
      upper="1.25"
      effort="0"
      velocity="0" />
  </joint>
  <link
    name="p_tip_link">
    <inertial>
      <origin
        xyz="0.0017968 -1.9457E-08 -1.4919E-16"
        rpy="0 0 0" />
      <mass
        value="0.00010634" />
      <inertia
        ixx="3.1201E-09"
        ixy="1.0747E-24"
        ixz="9.049E-25"
        iyy="1.4395E-09"
        iyz="-1.6285E-24"
        izz="2.4565E-09" />
    </inertial>
    <visual>
      <origin
        xyz="0 0 0"
        rpy="0 0 0" />
      <geometry>
        <mesh
          filename="meshes/p_tip_link.STL" />
      </geometry>
      <material
        name="">
        <color
          rgba="0.79216 0.81961 0.93333 1" />
      </material>
    </visual>
    <collision>
      <origin
        xyz="0 0 0"
        rpy="0 0 0" />
      <geometry>
        <mesh
          filename="meshes/p_tip_link.STL" />
      </geometry>
    </collision>
  </link>
  <joint
    name="p_tip_joint"
    type="fixed">
    <origin
      xyz="0.016206 0 0"
      rpy="0 0 0" />
    <parent
      link="pdf_link" />
    <child
      link="p_tip_link" />
    <axis
      xyz="0 0 0" />
  </joint>
  <link
    name="pds_link">
    <inertial>
      <origin
        xyz="0.013532 0.0036871 0.0010097"
        rpy="0 0 0" />
      <mass
        value="0.00089722" />
      <inertia
        ixx="2.0441E-08"
        ixy="-2.6845E-08"
        ixz="-4.589E-11"
        iyy="6.1828E-08"
        iyz="1.2288E-10"
        izz="7.9928E-08" />
    </inertial>
    <visual>
      <origin
        xyz="0 0 0"
        rpy="0 0 0" />
      <geometry>
        <mesh
          filename="meshes/pds_link.STL" />
      </geometry>
      <material
        name="">
        <color
          rgba="0.79216 0.81961 0.93333 1" />
      </material>
    </visual>
    <collision>
      <origin
        xyz="0 0 0"
        rpy="0 0 0" />
      <geometry>
        <mesh
          filename="meshes/pds_link.STL" />
      </geometry>
    </collision>
  </link>
  <joint
    name="pds_joint"
    type="revolute">
    <origin
      xyz="0.018 0 0.004675"
      rpy="0 0 -0.0019569" />
    <parent
      link="pmf_link" />
    <child
      link="pds_link" />
    <axis
      xyz="0 0 1" />
    <limit
      lower="-0.175"
      upper="1.25"
      effort="0"
      velocity="0" />
    <mimic
      joint="pdf_joint"
      multiplier="1"
      offset="0" />
  </joint>
</robot>
